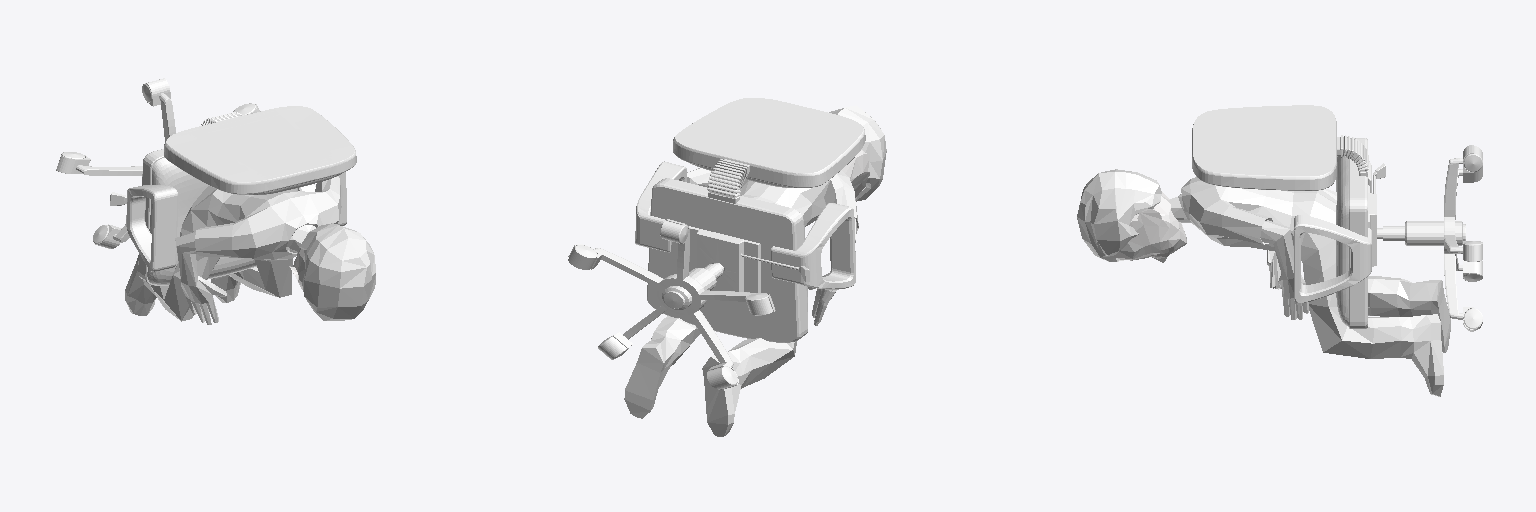
The model's file is female.obj.
3 renders of one model, left to right at view 1: azimuth 30°, elevation 25°; view 2: azimuth 150°, elevation 25°; view 3: azimuth 270°, elevation 25°, orthographic.
Parts seen in each view (by area): view 1: Object.6, Object.4, Object.1, Object.3; view 2: Object.6, Object.4, Object.1, Object.3, Object.5; view 3: Object.6, Object.4, Object.1, Object.5, Object.3.
Part boxes in pixels (x1,y1,x2,y2): Object.6: (56, 78, 356, 285); Object.4: (125, 177, 342, 321); Object.1: (300, 223, 375, 320); Object.3: (175, 176, 338, 324); Object.6: (568, 98, 865, 389); Object.4: (624, 170, 858, 436); Object.1: (829, 105, 886, 201); Object.3: (687, 168, 856, 325); Object.5: (842, 150, 869, 197); Object.6: (1192, 105, 1482, 331); Object.4: (1181, 177, 1450, 396); Object.1: (1077, 169, 1161, 261); Object.5: (1112, 192, 1186, 262); Object.3: (1260, 220, 1308, 319).
Bounding box in the file's own units: 189 × 203 × 322.